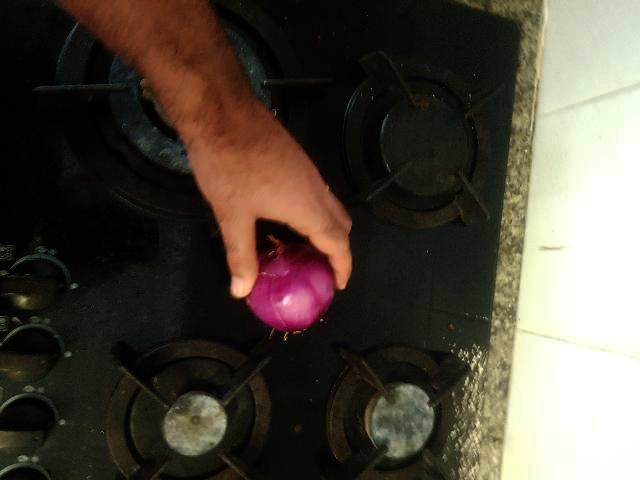onion: (393, 304, 481, 405)
